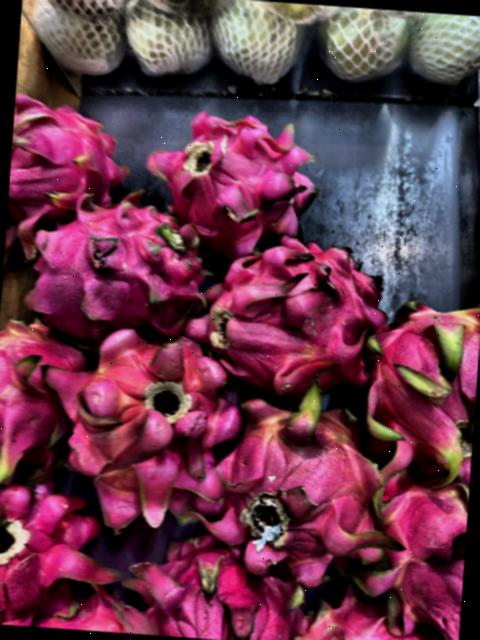buah-naga-belum-matang: (217, 388, 384, 584), (366, 290, 480, 477)
buah-naga-matang: (52, 323, 236, 518), (193, 226, 375, 392), (38, 179, 214, 345), (148, 96, 318, 246), (125, 523, 316, 640), (7, 85, 141, 233), (367, 461, 470, 640), (0, 474, 124, 622), (0, 307, 88, 477), (298, 589, 447, 640), (36, 593, 160, 635)
